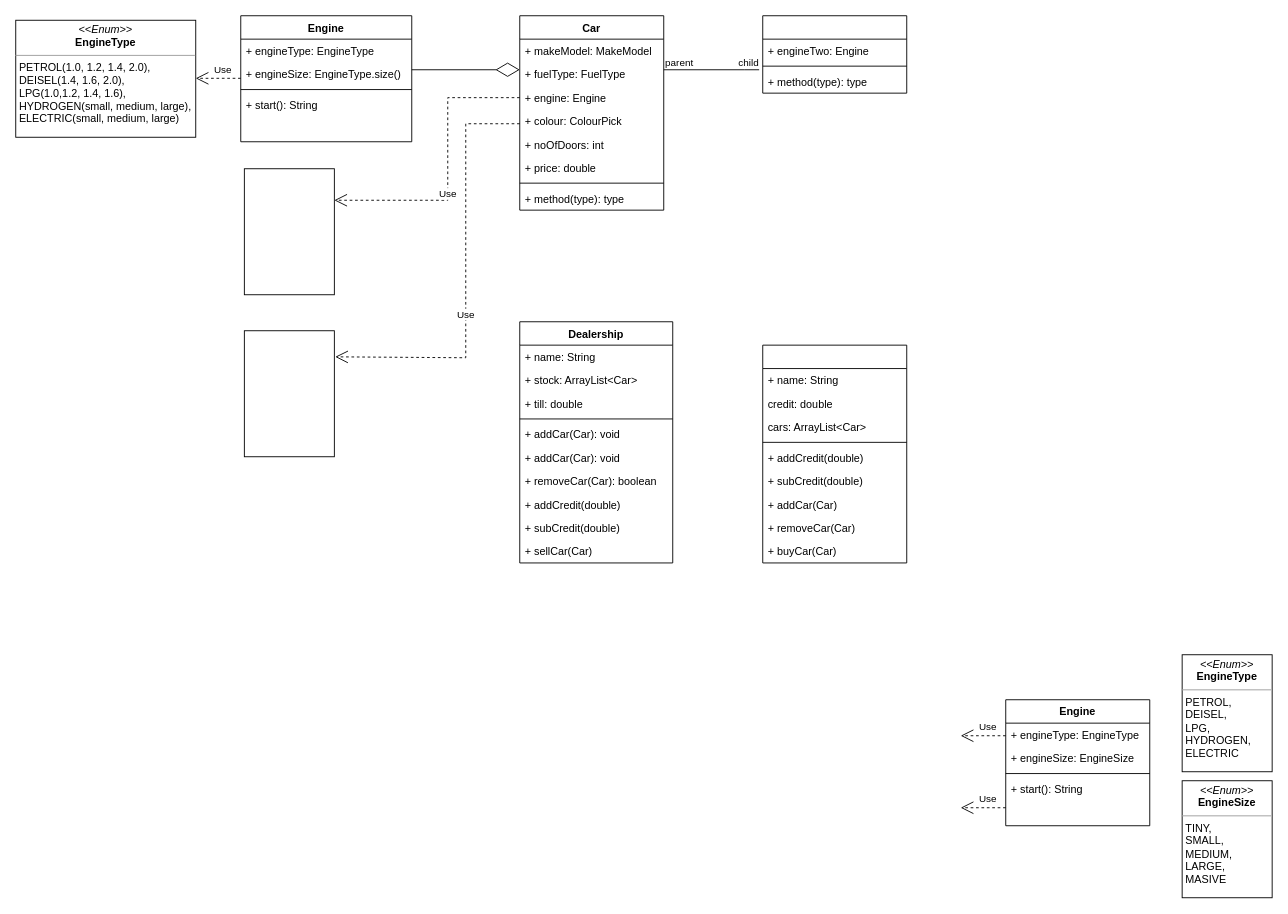
Image size: 1288x914. Some labels were removed from this diagram. Each missing label, with the box of its shape:
<<Enum>> ColourPick BLACK, WHITE, RED, GREEN: (243, 330, 334, 457)
<<Enum>> FuelType PETROL, DEISEL, LPG, HYDROGEN, ELECTRIC, HYBRID: (243, 168, 334, 295)
Customer: (762, 344, 907, 563)
Hybrid: (762, 15, 907, 93)
